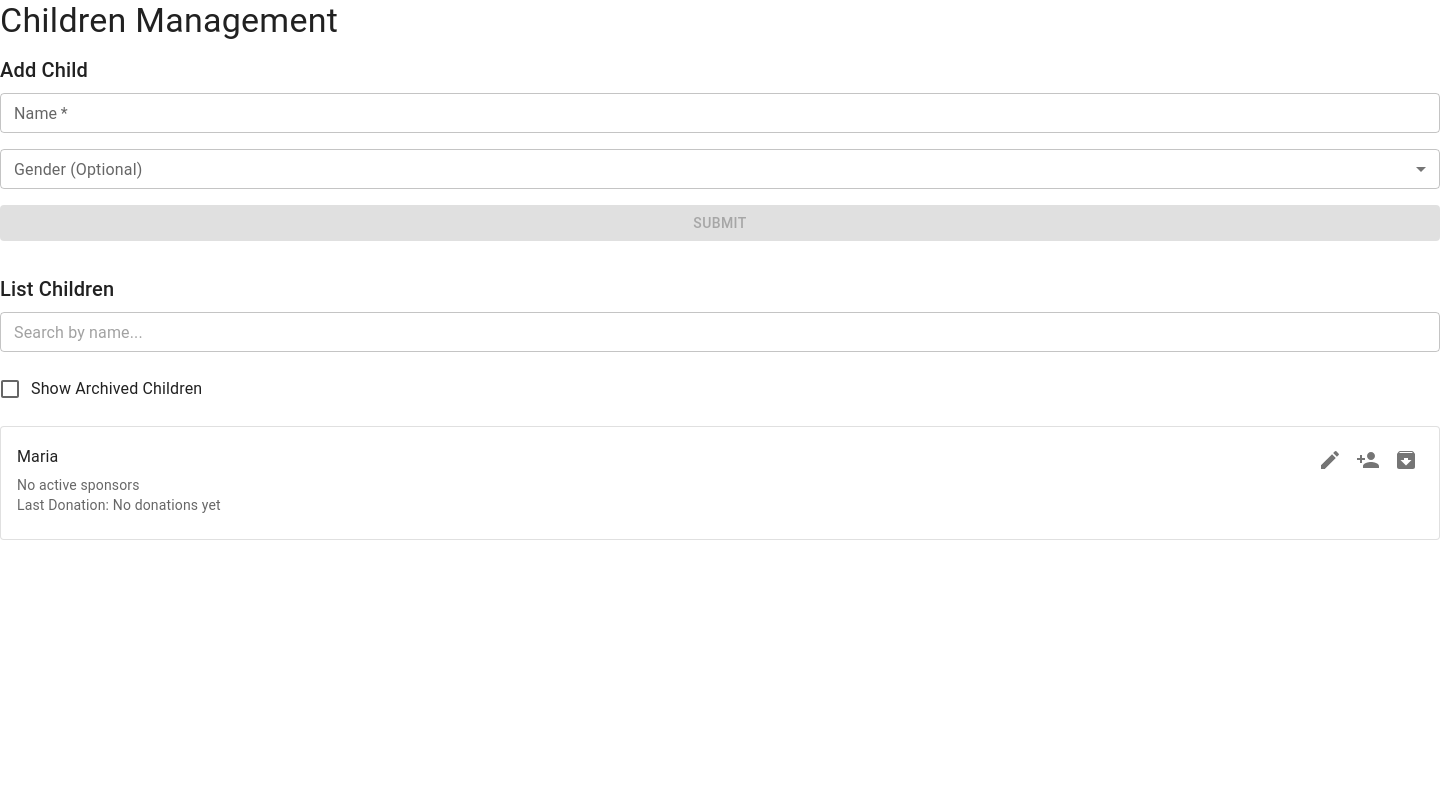
Scenario: ChildrenPage › opens sponsorship modal when Add Sponsor button clicked
Click the button named "add sponsor": (1368, 460) [1351,443,1385,477]
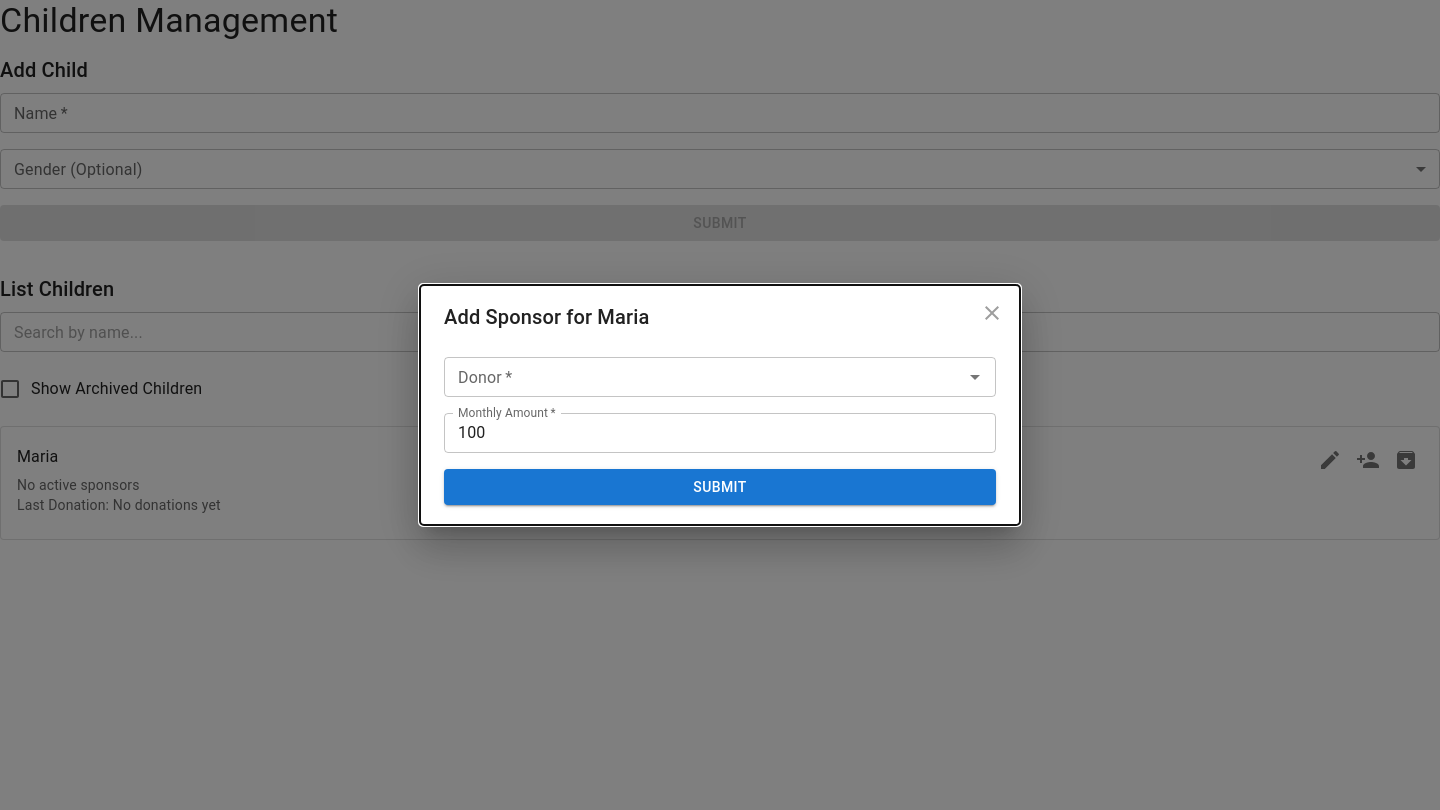
Result: the heading "Add Sponsor for Maria" is shown at [420,285,1020,349]
